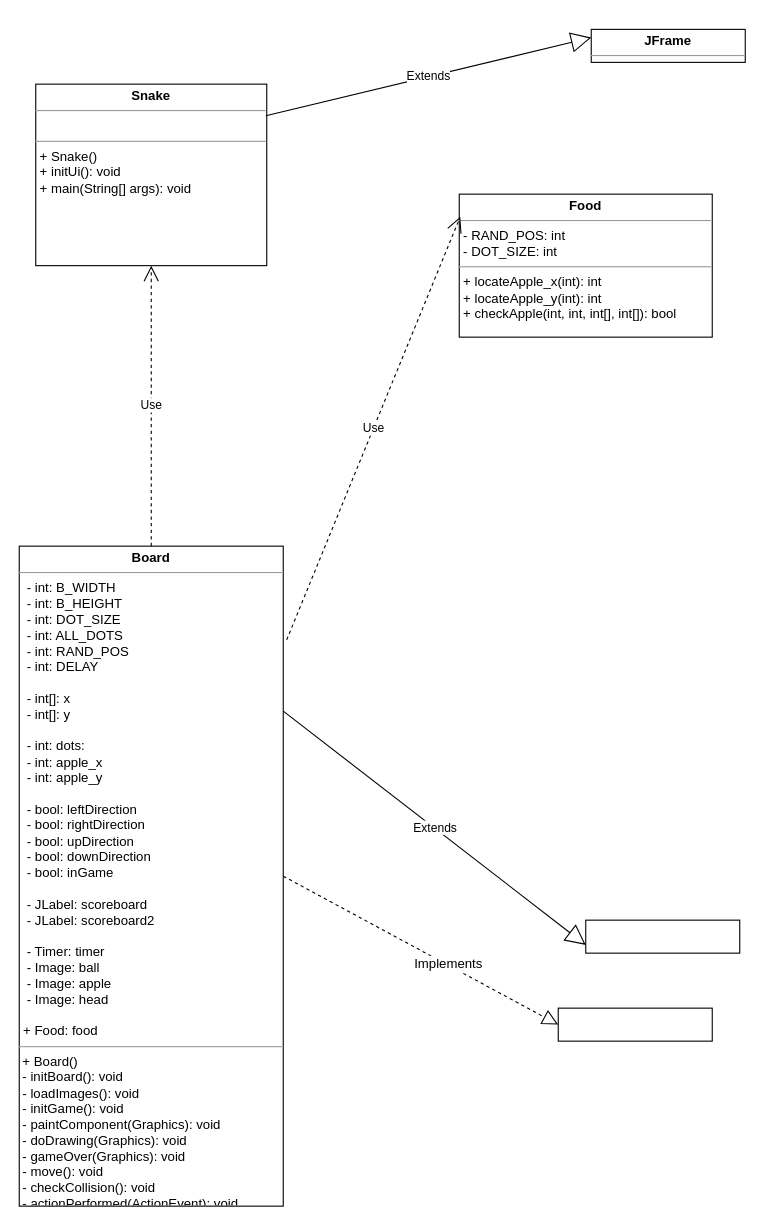
The diagram is 765 pixels wide and 1230 high, and some of its shapes have lost their labels. The shapes that lost their labels are listed below. From the top down, each one's centre as x and y in pixels, then its label:
(x=662, y=936): JPanel
(x=634, y=1024): ActionListener
